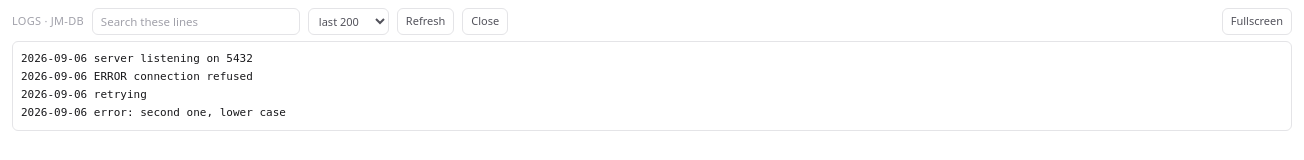
AC-5 — no matches is a statement › says so rather than rendering an empty box
Type "zzzz" into the field with test id "docker-logs-search".
click(196, 22); type("zzzz")  # box [92,8,300,35]
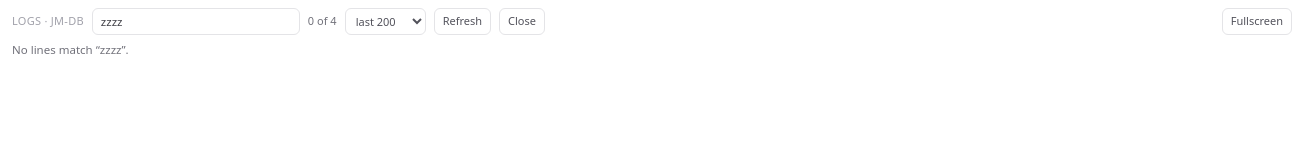
Expected: the text with test id "docker-logs-nomatch" shows "zzzz", [100,42,121,57]
Expected: the element with test id "docker-logs-body" is gone
